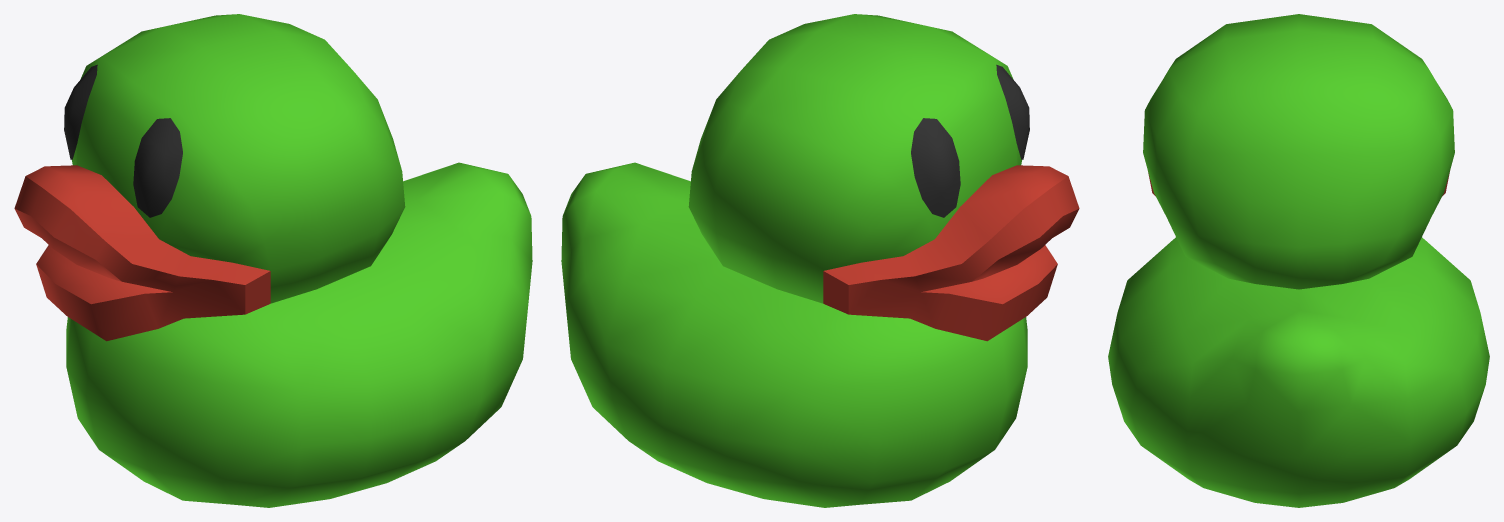
The model's file is duck01_s03.FBX.
The picture shows the model from 3 angles, left to right: view 1: azimuth 30°, elevation 25°; view 2: azimuth 150°, elevation 25°; view 3: azimuth 270°, elevation 25°; orthographic projection. The views are drawn at different scales.
Parts seen in each view (by area): view 1: duck01_s03; view 2: duck01_s03; view 3: duck01_s03.
Boxes of the visible parts, left/top/right/bottom form: duck01_s03: left=14, top=14, right=532, bottom=507; duck01_s03: left=561, top=14, right=1079, bottom=507; duck01_s03: left=1108, top=14, right=1489, bottom=507.
Size of the model in its own units: 107 by 79.17 by 90.4.
1 material, 1 textured.
